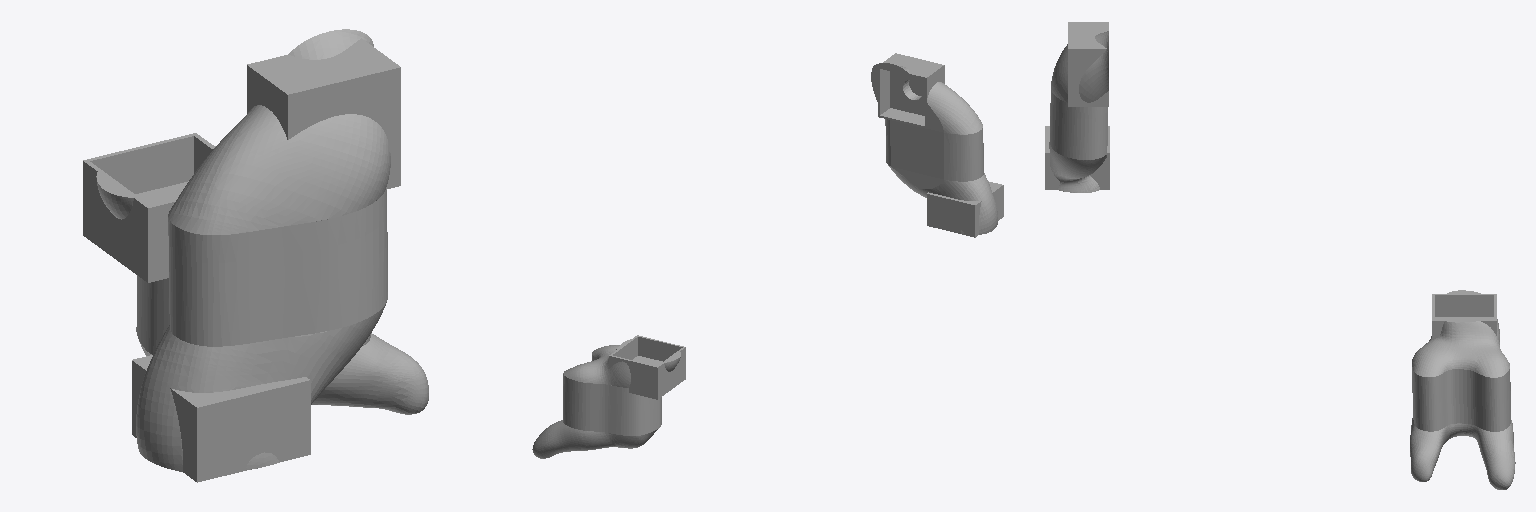
URDF robot description (FrogBot4_top-FrogBot4-x-9_bottom-FrogBot4-x-9):
<?xml version="1.0" ?>
<robot name="FrogBot4_top-FrogBot4-x-9_bottom-FrogBot4-x-9">

<material name="pla_5_percent_infill">
  <color rgba="0.700 0.700 0.700 1.000"/>
</material>

<link name="base_link">
  <inertial>
    <origin xyz="0 0 0" rpy="0 0 0"/>
    <mass value="1.4608203761339813"/>
    <inertia ixx="0.00496034401110324" iyy="0.010259632804669863" izz="0.010457868746855814" ixy="4.519338143051983e-05" iyz="5.808312742508133e-05" ixz="-0.001193761897574285"/>
  </inertial>
  <visual>
    <origin xyz="0 0 0" rpy="0 0 0"/>
    <geometry>
      <mesh filename="simple_meshes/base_link.stl" scale="0.001 0.001 0.001"/>
    </geometry>
    <material name="pla_5_percent_infill"/>
  </visual>
  <collision>
    <origin xyz="0 0 0" rpy="0 0 0"/>
    <geometry>
      <mesh filename="simple_meshes/base_link.stl" scale="0.001 0.001 0.001"/>
    </geometry>
  </collision>
</link>

<link name="body_1_0_1">
  <inertial>
    <origin xyz="-0.039935 -0.102508 -0.020563" rpy="0 0 0"/>
    <mass value="0.09638039335267436"/>
    <inertia ixx="0.000149413605200066" iyy="0.00016719334268943775" izz="4.179590209425245e-05" ixy="1.0736294895138812e-06" iyz="3.4236254684453854e-06" ixz="-1.7916284568301238e-05"/>
  </inertial>
  <visual>
    <origin xyz="-0.039935 -0.102508 -0.020563" rpy="0 0 0"/>
    <geometry>
      <mesh filename="simple_meshes/body_1_0_1.stl" scale="0.001 0.001 0.001"/>
    </geometry>
    <material name="pla_5_percent_infill"/>
  </visual>
  <collision>
    <origin xyz="-0.039935 -0.102508 -0.020563" rpy="0 0 0"/>
    <geometry>
      <mesh filename="simple_meshes/body_1_0_1.stl" scale="0.001 0.001 0.001"/>
    </geometry>
  </collision>
</link>

<link name="body_1_1_1">
  <inertial>
    <origin xyz="0.084829 -0.102508 0.010182" rpy="0 0 0"/>
    <mass value="0.11500864731276682"/>
    <inertia ixx="0.0001257884091385819" iyy="0.00018210563603961822" izz="8.533031921161222e-05" ixy="-2.4119076764410764e-06" iyz="1.8601116171418656e-06" ixz="-3.19286860500485e-05"/>
  </inertial>
  <visual>
    <origin xyz="0.084829 -0.102508 0.010182" rpy="0 0 0"/>
    <geometry>
      <mesh filename="simple_meshes/body_1_1_1.stl" scale="0.001 0.001 0.001"/>
    </geometry>
    <material name="pla_5_percent_infill"/>
  </visual>
  <collision>
    <origin xyz="0.084829 -0.102508 0.010182" rpy="0 0 0"/>
    <geometry>
      <mesh filename="simple_meshes/body_1_1_1.stl" scale="0.001 0.001 0.001"/>
    </geometry>
  </collision>
</link>

<link name="body_1_2_1">
  <inertial>
    <origin xyz="-0.032973 0.102508 -0.03352" rpy="0 0 0"/>
    <mass value="0.10241329953721655"/>
    <inertia ixx="0.00018093746184395234" iyy="0.0001968792083816403" izz="4.48962329537418e-05" ixy="-2.8025641851598445e-06" iyz="-1.4965751827654146e-05" ixz="-1.5131763044338097e-05"/>
  </inertial>
  <visual>
    <origin xyz="-0.032973 0.102508 -0.03352" rpy="0 0 0"/>
    <geometry>
      <mesh filename="simple_meshes/body_1_2_1.stl" scale="0.001 0.001 0.001"/>
    </geometry>
    <material name="pla_5_percent_infill"/>
  </visual>
  <collision>
    <origin xyz="-0.032973 0.102508 -0.03352" rpy="0 0 0"/>
    <geometry>
      <mesh filename="simple_meshes/body_1_2_1.stl" scale="0.001 0.001 0.001"/>
    </geometry>
  </collision>
</link>

<link name="body_1_3_1">
  <inertial>
    <origin xyz="0.075405 0.102508 -0.000907" rpy="0 0 0"/>
    <mass value="0.12156832275059853"/>
    <inertia ixx="0.00013758525365973207" iyy="0.00019504016904389027" izz="8.909196501142398e-05" ixy="6.113718046120258e-08" iyz="-1.939409002651364e-06" ixz="-3.1433497264792476e-05"/>
  </inertial>
  <visual>
    <origin xyz="0.075405 0.102508 -0.000907" rpy="0 0 0"/>
    <geometry>
      <mesh filename="simple_meshes/body_1_3_1.stl" scale="0.001 0.001 0.001"/>
    </geometry>
    <material name="pla_5_percent_infill"/>
  </visual>
  <collision>
    <origin xyz="0.075405 0.102508 -0.000907" rpy="0 0 0"/>
    <geometry>
      <mesh filename="simple_meshes/body_1_3_1.stl" scale="0.001 0.001 0.001"/>
    </geometry>
  </collision>
</link>

<link name="body_2_0_1">
  <inertial>
    <origin xyz="-0.025656 -0.145015 0.130436" rpy="0 0 0"/>
    <mass value="0.13276483031611247"/>
    <inertia ixx="0.00012733077783330486" iyy="0.00014981371842684096" izz="0.00012742258036916492" ixy="-7.36380966592353e-08" iyz="1.2431444579314582e-06" ixz="2.9384950213315287e-05"/>
  </inertial>
  <visual>
    <origin xyz="-0.025656 -0.145015 0.130436" rpy="0 0 0"/>
    <geometry>
      <mesh filename="simple_meshes/body_2_0_1.stl" scale="0.001 0.001 0.001"/>
    </geometry>
    <material name="pla_5_percent_infill"/>
  </visual>
  <collision>
    <origin xyz="-0.025656 -0.145015 0.130436" rpy="0 0 0"/>
    <geometry>
      <mesh filename="simple_meshes/body_2_0_1.stl" scale="0.001 0.001 0.001"/>
    </geometry>
  </collision>
</link>

<link name="body_2_1_1">
  <inertial>
    <origin xyz="0.114857 -0.145661 0.130438" rpy="0 0 0"/>
    <mass value="0.11275214548822712"/>
    <inertia ixx="9.736265908280497e-05" iyy="0.00013366332983472898" izz="9.006927698340531e-05" ixy="-2.6136765315142377e-06" iyz="6.9041537036794096e-06" ixz="2.9901195570665494e-05"/>
  </inertial>
  <visual>
    <origin xyz="0.114857 -0.145661 0.130438" rpy="0 0 0"/>
    <geometry>
      <mesh filename="simple_meshes/body_2_1_1.stl" scale="0.001 0.001 0.001"/>
    </geometry>
    <material name="pla_5_percent_infill"/>
  </visual>
  <collision>
    <origin xyz="0.114857 -0.145661 0.130438" rpy="0 0 0"/>
    <geometry>
      <mesh filename="simple_meshes/body_2_1_1.stl" scale="0.001 0.001 0.001"/>
    </geometry>
  </collision>
</link>

<link name="body_2_2_1">
  <inertial>
    <origin xyz="-0.022601 0.152053 0.130436" rpy="0 0 0"/>
    <mass value="0.14311456560235977"/>
    <inertia ixx="0.00013674929125781152" iyy="0.0001658379147275119" izz="0.00013727213865715555" ixy="-4.2164385010813946e-06" iyz="-1.113693552828518e-06" ixz="3.2963625339837424e-05"/>
  </inertial>
  <visual>
    <origin xyz="-0.022601 0.152053 0.130436" rpy="0 0 0"/>
    <geometry>
      <mesh filename="simple_meshes/body_2_2_1.stl" scale="0.001 0.001 0.001"/>
    </geometry>
    <material name="pla_5_percent_infill"/>
  </visual>
  <collision>
    <origin xyz="-0.022601 0.152053 0.130436" rpy="0 0 0"/>
    <geometry>
      <mesh filename="simple_meshes/body_2_2_1.stl" scale="0.001 0.001 0.001"/>
    </geometry>
  </collision>
</link>

<link name="body_2_3_1">
  <inertial>
    <origin xyz="0.12145 0.146005 0.130436" rpy="0 0 0"/>
    <mass value="0.11981848753320068"/>
    <inertia ixx="0.00011731779423468022" iyy="0.00012379083392387562" izz="0.00011021283487030456" ixy="5.655840359716953e-06" iyz="-1.2241822694034933e-05" ixz="2.097166595083598e-05"/>
  </inertial>
  <visual>
    <origin xyz="0.12145 0.146005 0.130436" rpy="0 0 0"/>
    <geometry>
      <mesh filename="simple_meshes/body_2_3_1.stl" scale="0.001 0.001 0.001"/>
    </geometry>
    <material name="pla_5_percent_infill"/>
  </visual>
  <collision>
    <origin xyz="0.12145 0.146005 0.130436" rpy="0 0 0"/>
    <geometry>
      <mesh filename="simple_meshes/body_2_3_1.stl" scale="0.001 0.001 0.001"/>
    </geometry>
  </collision>
</link>

<joint name="joint_1_0" type="revolute">
  <origin xyz="0.039935 0.102508 0.020563" rpy="0 0 0"/>
  <parent link="base_link"/>
  <child link="body_1_0_1"/>
  <axis xyz="1.0 0.0 0.0"/>
  <limit upper="1.2" lower="-1.2" effort="3.8" velocity="5.4"/>
</joint>
<transmission name="joint_1_0_tran">
  <type>transmission_interface/SimpleTransmission</type>
  <joint name="joint_1_0">
    <hardwareInterface>PositionJointInterface</hardwareInterface>
  </joint>
  <actuator name="joint_1_0_actr">
    <hardwareInterface>PositionJointInterface</hardwareInterface>
    <mechanicalReduction>1</mechanicalReduction>
  </actuator>
</transmission>

<joint name="joint_1_1" type="revolute">
  <origin xyz="-0.084829 0.102508 -0.010182" rpy="0 0 0"/>
  <parent link="base_link"/>
  <child link="body_1_1_1"/>
  <axis xyz="1.0 0.0 0.0"/>
  <limit upper="1.2" lower="-1.2" effort="3.8" velocity="5.4"/>
</joint>
<transmission name="joint_1_1_tran">
  <type>transmission_interface/SimpleTransmission</type>
  <joint name="joint_1_1">
    <hardwareInterface>PositionJointInterface</hardwareInterface>
  </joint>
  <actuator name="joint_1_1_actr">
    <hardwareInterface>PositionJointInterface</hardwareInterface>
    <mechanicalReduction>1</mechanicalReduction>
  </actuator>
</transmission>

<joint name="joint_1_2" type="revolute">
  <origin xyz="0.032973 -0.102508 0.03352" rpy="0 0 0"/>
  <parent link="base_link"/>
  <child link="body_1_2_1"/>
  <axis xyz="1.0 0.0 0.0"/>
  <limit upper="1.2" lower="-1.2" effort="3.8" velocity="5.4"/>
</joint>
<transmission name="joint_1_2_tran">
  <type>transmission_interface/SimpleTransmission</type>
  <joint name="joint_1_2">
    <hardwareInterface>PositionJointInterface</hardwareInterface>
  </joint>
  <actuator name="joint_1_2_actr">
    <hardwareInterface>PositionJointInterface</hardwareInterface>
    <mechanicalReduction>1</mechanicalReduction>
  </actuator>
</transmission>

<joint name="joint_1_3" type="revolute">
  <origin xyz="-0.075405 -0.102508 0.000907" rpy="0 0 0"/>
  <parent link="base_link"/>
  <child link="body_1_3_1"/>
  <axis xyz="1.0 0.0 0.0"/>
  <limit upper="1.2" lower="-1.2" effort="3.8" velocity="5.4"/>
</joint>
<transmission name="joint_1_3_tran">
  <type>transmission_interface/SimpleTransmission</type>
  <joint name="joint_1_3">
    <hardwareInterface>PositionJointInterface</hardwareInterface>
  </joint>
  <actuator name="joint_1_3_actr">
    <hardwareInterface>PositionJointInterface</hardwareInterface>
    <mechanicalReduction>1</mechanicalReduction>
  </actuator>
</transmission>

<joint name="joint_2_0" type="revolute">
  <origin xyz="-0.014279 0.042507 -0.150999" rpy="0 0 0"/>
  <parent link="body_1_0_1"/>
  <child link="body_2_0_1"/>
  <axis xyz="1.0 0.0 0.0"/>
  <limit upper="1.2" lower="-1.2" effort="3.8" velocity="5.4"/>
</joint>
<transmission name="joint_2_0_tran">
  <type>transmission_interface/SimpleTransmission</type>
  <joint name="joint_2_0">
    <hardwareInterface>PositionJointInterface</hardwareInterface>
  </joint>
  <actuator name="joint_2_0_actr">
    <hardwareInterface>PositionJointInterface</hardwareInterface>
    <mechanicalReduction>1</mechanicalReduction>
  </actuator>
</transmission>

<joint name="joint_2_1" type="revolute">
  <origin xyz="-0.030028 0.043153 -0.120256" rpy="0 0 0"/>
  <parent link="body_1_1_1"/>
  <child link="body_2_1_1"/>
  <axis xyz="1.0 0.0 0.0"/>
  <limit upper="1.2" lower="-1.2" effort="3.8" velocity="5.4"/>
</joint>
<transmission name="joint_2_1_tran">
  <type>transmission_interface/SimpleTransmission</type>
  <joint name="joint_2_1">
    <hardwareInterface>PositionJointInterface</hardwareInterface>
  </joint>
  <actuator name="joint_2_1_actr">
    <hardwareInterface>PositionJointInterface</hardwareInterface>
    <mechanicalReduction>1</mechanicalReduction>
  </actuator>
</transmission>

<joint name="joint_2_2" type="revolute">
  <origin xyz="-0.010372 -0.049545 -0.163956" rpy="0 0 0"/>
  <parent link="body_1_2_1"/>
  <child link="body_2_2_1"/>
  <axis xyz="1.0 0.0 0.0"/>
  <limit upper="1.2" lower="-1.2" effort="3.8" velocity="5.4"/>
</joint>
<transmission name="joint_2_2_tran">
  <type>transmission_interface/SimpleTransmission</type>
  <joint name="joint_2_2">
    <hardwareInterface>PositionJointInterface</hardwareInterface>
  </joint>
  <actuator name="joint_2_2_actr">
    <hardwareInterface>PositionJointInterface</hardwareInterface>
    <mechanicalReduction>1</mechanicalReduction>
  </actuator>
</transmission>

<joint name="joint_2_3" type="revolute">
  <origin xyz="-0.046045 -0.043497 -0.131343" rpy="0 0 0"/>
  <parent link="body_1_3_1"/>
  <child link="body_2_3_1"/>
  <axis xyz="1.0 0.0 0.0"/>
  <limit upper="1.2" lower="-1.2" effort="3.8" velocity="5.4"/>
</joint>
<transmission name="joint_2_3_tran">
  <type>transmission_interface/SimpleTransmission</type>
  <joint name="joint_2_3">
    <hardwareInterface>PositionJointInterface</hardwareInterface>
  </joint>
  <actuator name="joint_2_3_actr">
    <hardwareInterface>PositionJointInterface</hardwareInterface>
    <mechanicalReduction>1</mechanicalReduction>
  </actuator>
</transmission>

</robot>

--- What the picture shows (computed from the rendered views, not written in the file) ---
The picture shows the robot from 3 angles, left to right: view 1: azimuth 30°, elevation 25°; view 2: azimuth 150°, elevation 25°; view 3: azimuth 270°, elevation 25°; orthographic projection.
Model FrogBot4_top-FrogBot4-x-9_bottom-FrogBot4-x-9 with 9 links and 8 joints (8 revolute), rooted at base_link, posed every joint at zero.
Visible links, largest first — view 1: body_1_3_1, body_2_0_1; view 2: body_1_3_1, body_2_0_1; view 3: body_2_0_1, body_1_3_1.
Link boxes in pixels (x1,y1,x2,y2): body_1_3_1: [132, 29, 400, 482]; body_2_0_1: [83, 133, 428, 414]; body_1_3_1: [871, 53, 1003, 237]; body_2_0_1: [532, 335, 685, 458]; body_2_0_1: [1410, 290, 1515, 489]; body_1_3_1: [1045, 22, 1109, 192].
Size in the robot's own frame: 0.2744 by 0.3542 by 0.2955 metres.
Meshes: 9 distinct files referenced, 2 mesh visuals loaded (2 binary STL); not drawn: 7 (reference not matched to a file when rendering).